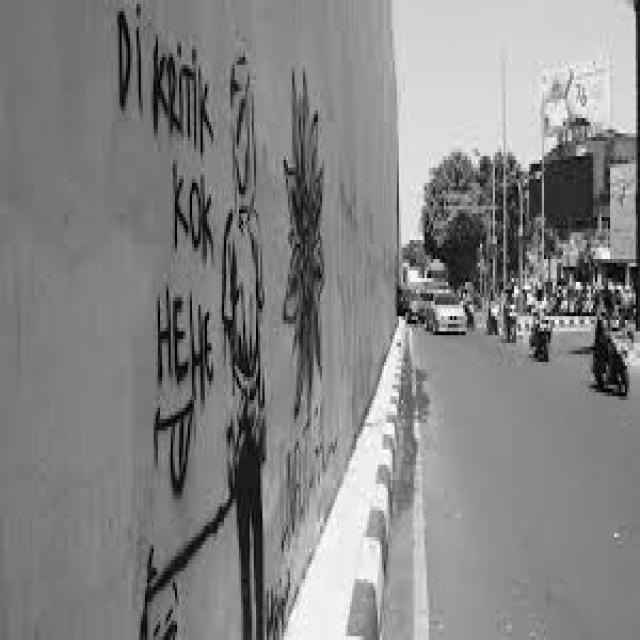-: (115, 1, 266, 640), (281, 64, 329, 423), (280, 412, 344, 550)
